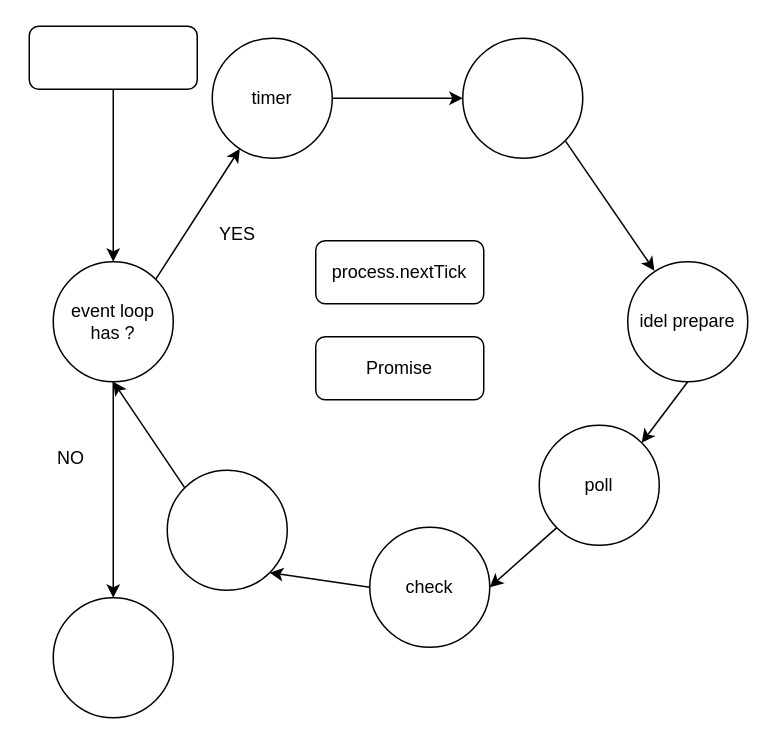
Some shapes in this 774 by 744 pixel diagram are drawn without their labels. The shapes that lost their labels are listed below. From the top down, each one's centre as x and y in pixels, then its label:
At (112,57): "main".
At (522,97): "I/O".
At (226,529): "close callbacks".
At (112,657): "over".
